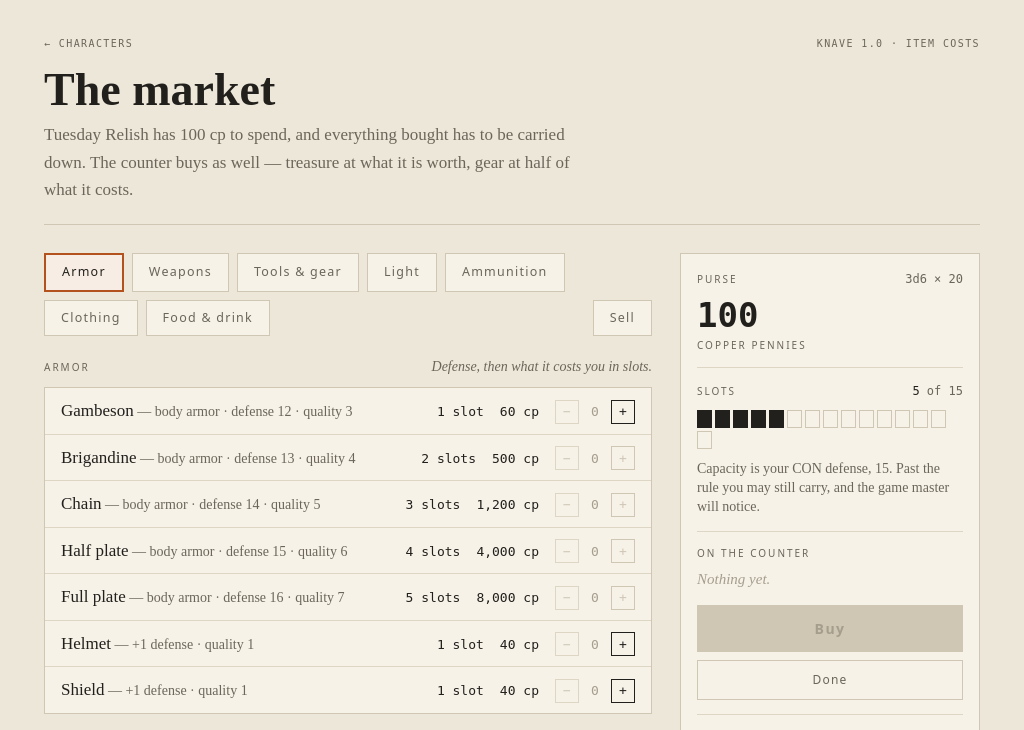
Scenario: the counter, selling › raises the purse on the screen the moment something goes on the block
Click the button "Sell": (622, 318) top-left (593, 300), bottom-right (652, 336)
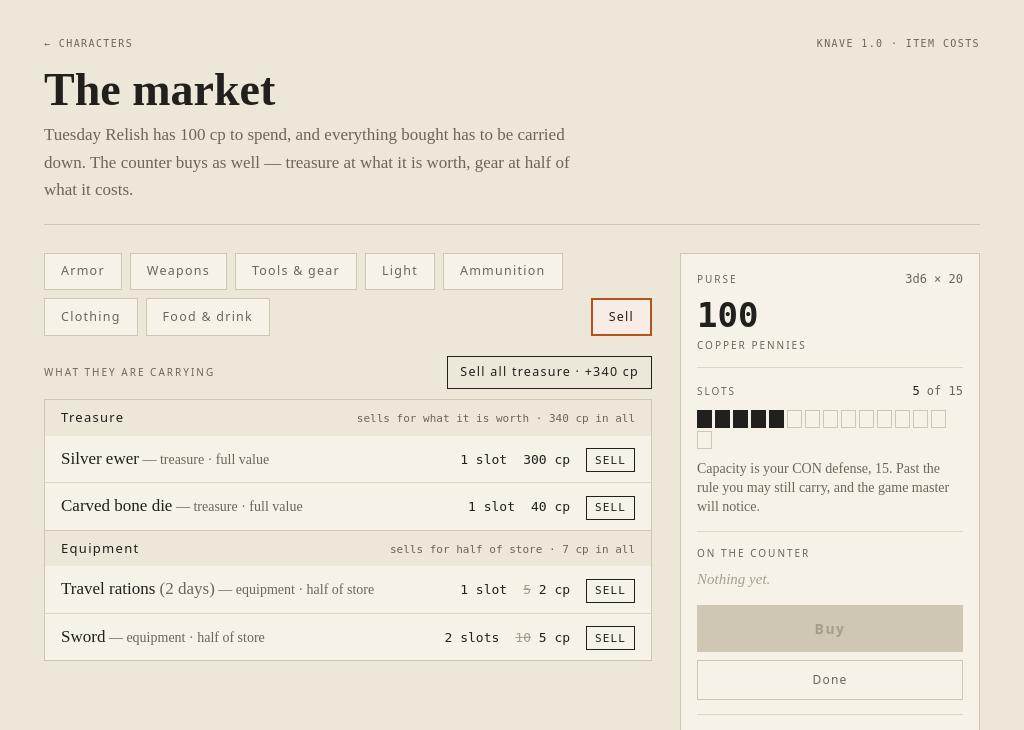
Click the button "Sell" next to "300 cp": (611, 460) top-left (586, 448), bottom-right (635, 472)
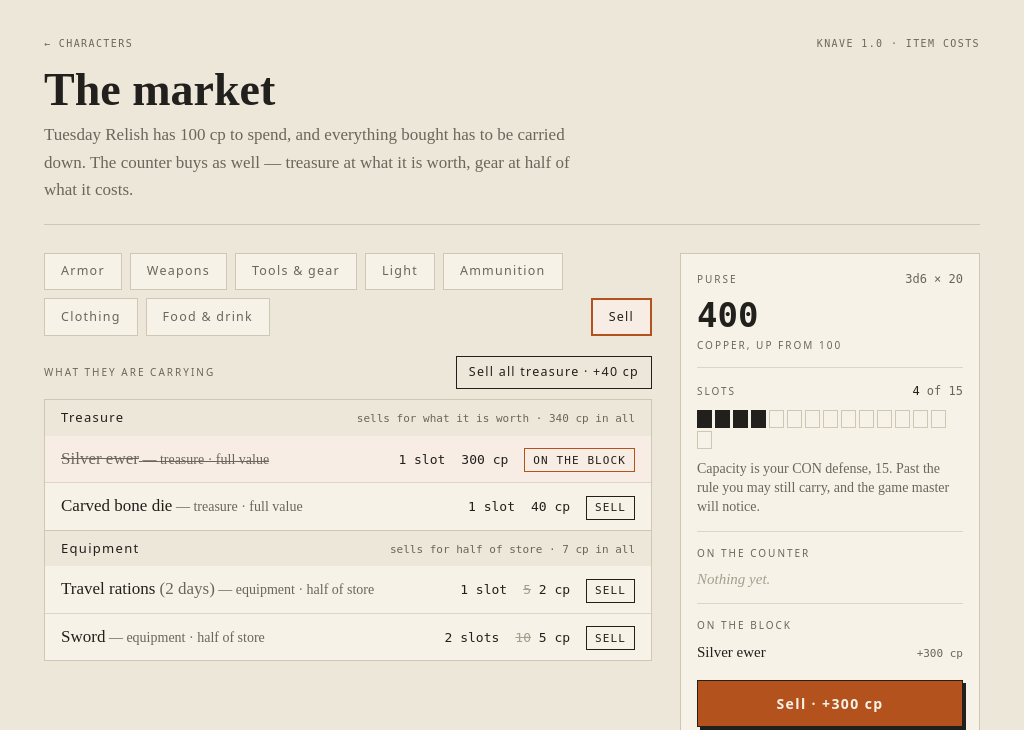
Expected: the text "400" is shown, top-left (697, 295), bottom-right (758, 335)
Expected: the text "Copper, up from 100" is shown, top-left (697, 338), bottom-right (842, 352)
Expected: the text "On the block" is shown, top-left (524, 448), bottom-right (635, 472)
